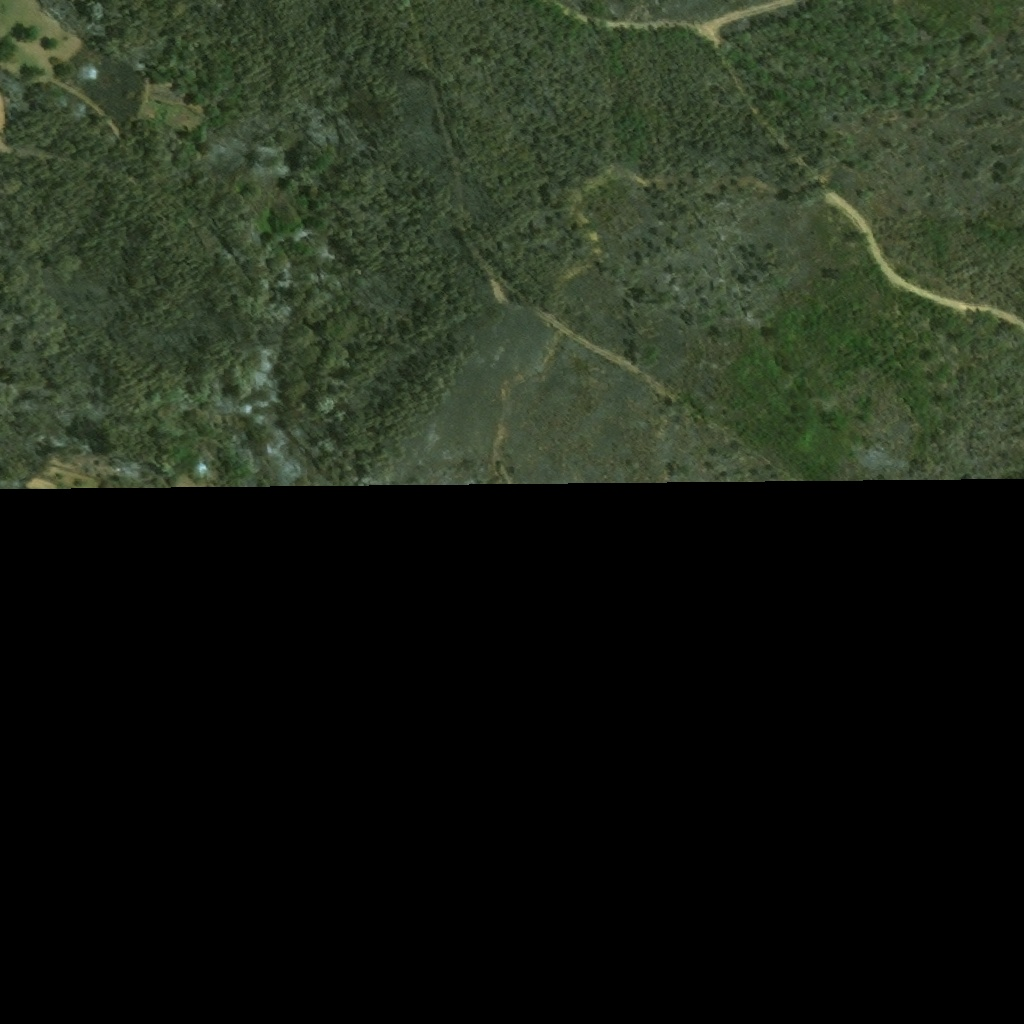0 no-damage: (190, 459, 209, 478)
